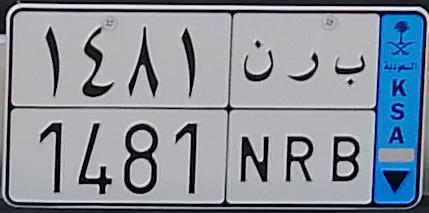1: (38, 22, 67, 198), (173, 26, 198, 196)
4: (76, 25, 117, 195)
8: (123, 22, 159, 197)
B: (330, 54, 366, 183)
N: (239, 39, 275, 184)
R: (283, 51, 321, 184)
